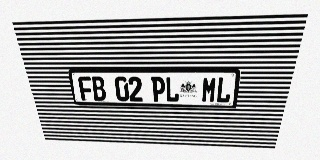0: (114, 76, 129, 101)
2: (128, 77, 143, 101)
B: (91, 76, 107, 101)
F: (77, 76, 94, 101)
L: (215, 77, 233, 103), (165, 77, 179, 102)
M: (201, 77, 217, 103)
P: (151, 77, 165, 102)
